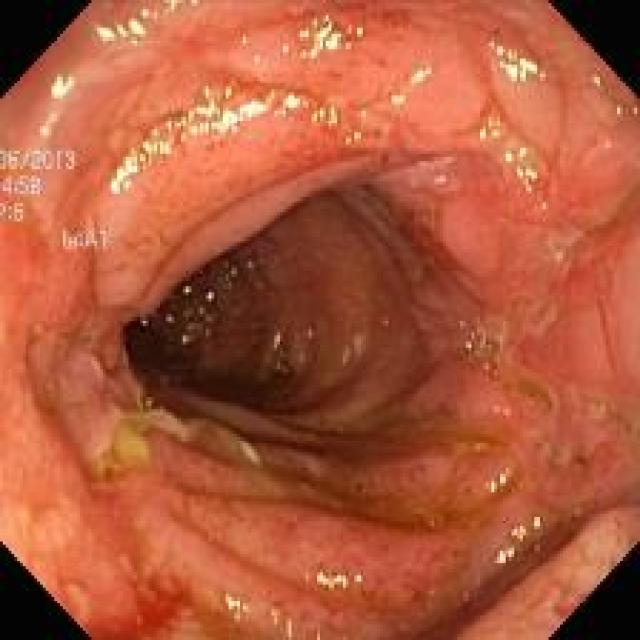ulcerative-colitis-grade-1: (0, 3, 640, 639)
